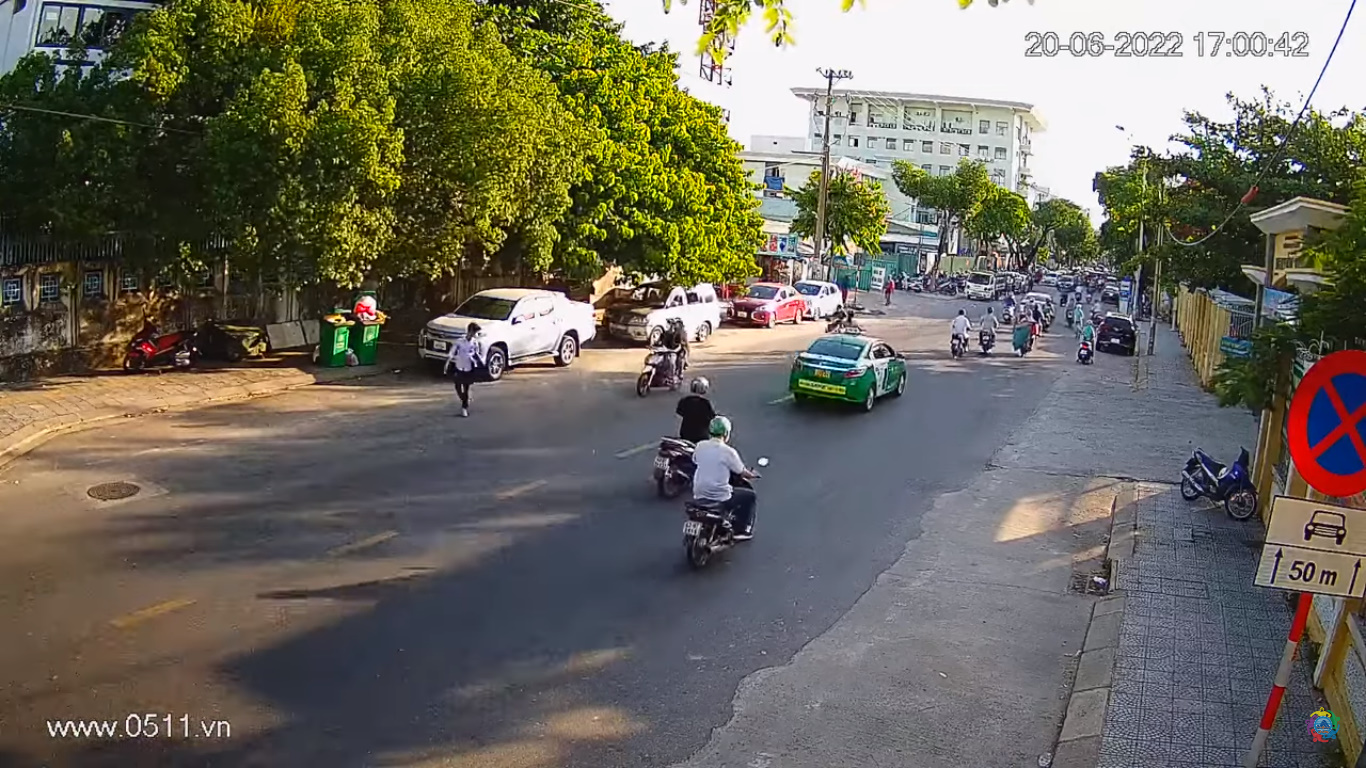car: (787, 325, 913, 424)
